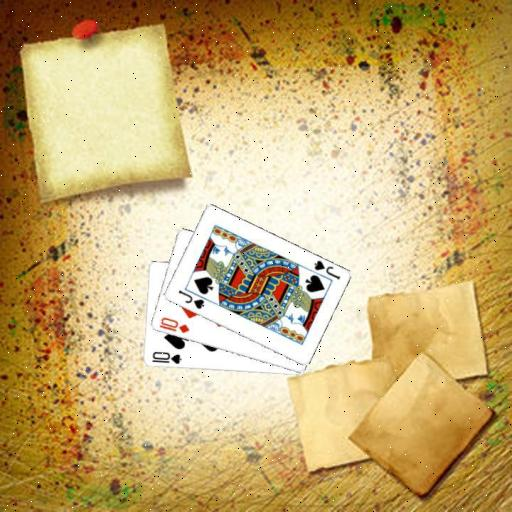10D: (156, 315, 191, 335)
10S: (149, 350, 183, 366)
JS: (175, 287, 205, 311), (311, 257, 341, 281)
